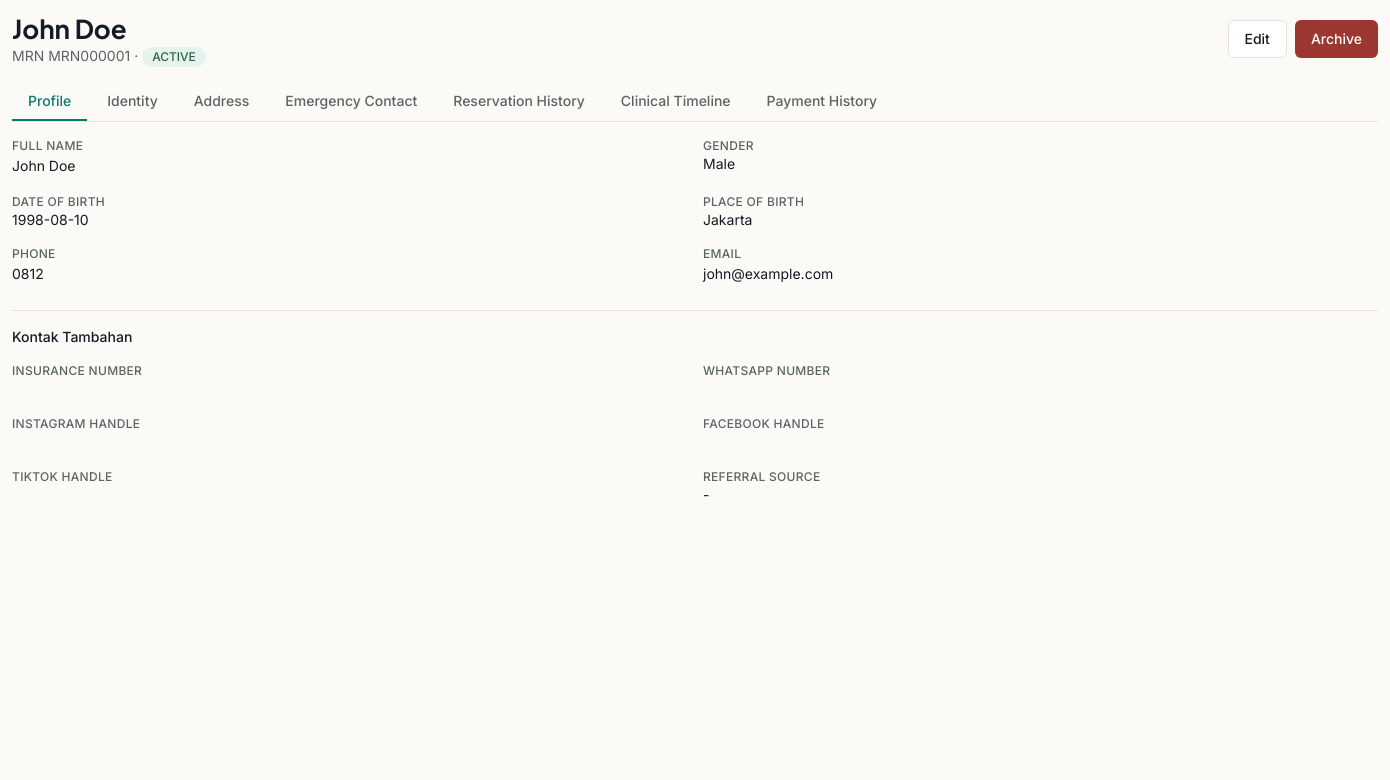
Scenario: PatientDetailView › switches to the Clinical Timeline tab and shows the aggregated feed as empty
The width and height of the screenshot is (1390, 780).
expect the heading "John Doe" is shown: met, box [12, 12, 127, 45]
Click the tab "Clinical Timeline" at (676, 102), box [605, 83, 746, 121]
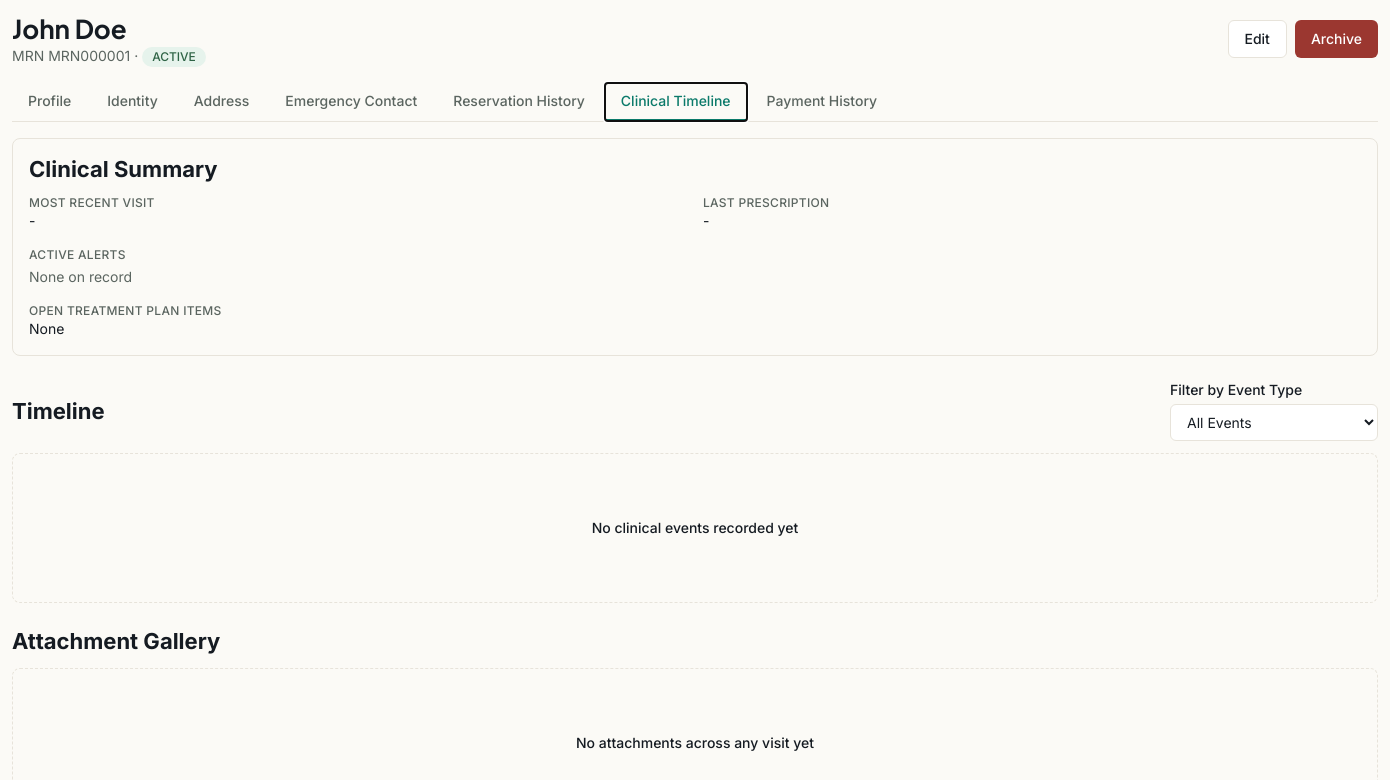
expect the text "No clinical events recorded yet" is shown: met, box [592, 518, 798, 538]
expect the text "No attachments across any visit yet" is shown: met, box [576, 733, 814, 753]
